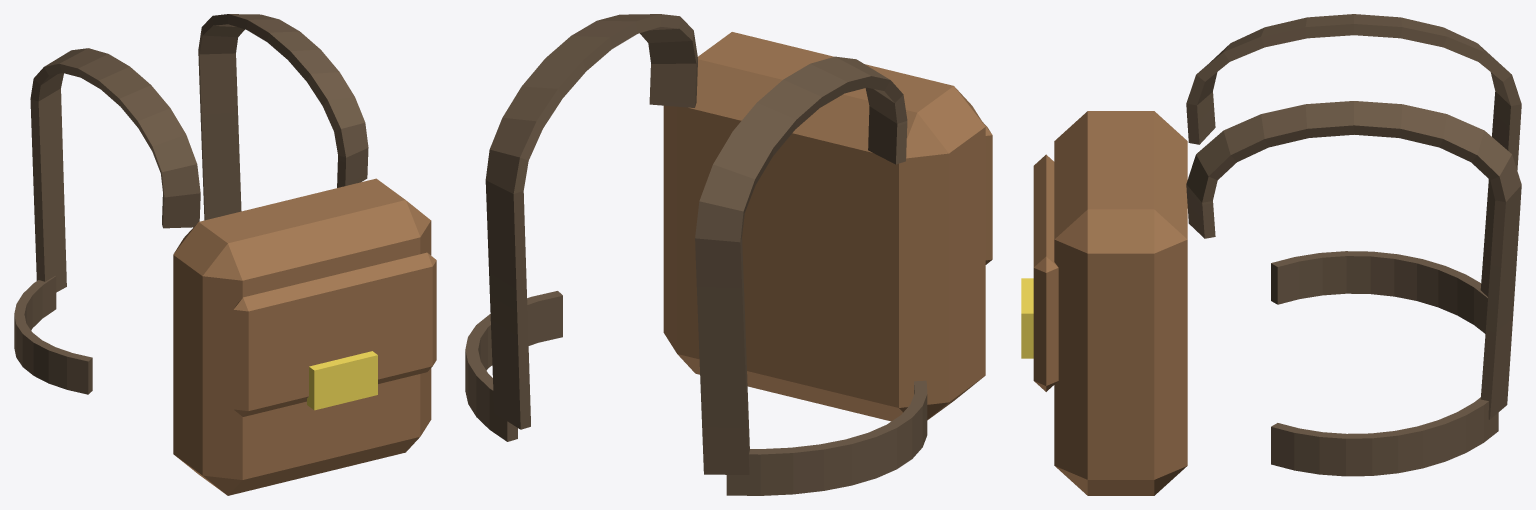
File: back_ranets.glb
The picture shows the model from 3 angles, left to right: view 1: azimuth 30°, elevation 25°; view 2: azimuth 150°, elevation 25°; view 3: azimuth 270°, elevation 25°; orthographic projection. The views are drawn at different scales.
Parts seen in each view (by area): view 1: Torso; view 2: Torso; view 3: Torso.
Part boxes in pixels (x1,y1,x2,y2): Torso: [14, 14, 436, 495]; Torso: [465, 14, 992, 495]; Torso: [1021, 14, 1521, 495].
Bounding box in the file's own units: 0.5336 × 0.5097 × 0.6016.
